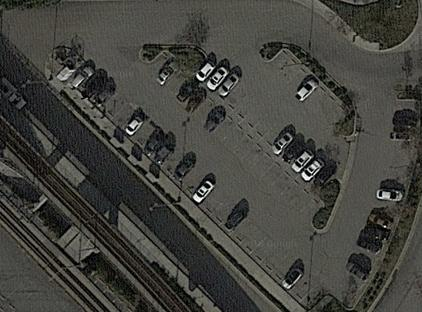parkingspot: (55, 51, 331, 311), (145, 50, 329, 224), (194, 55, 337, 195), (330, 97, 422, 309), (265, 48, 352, 134)
